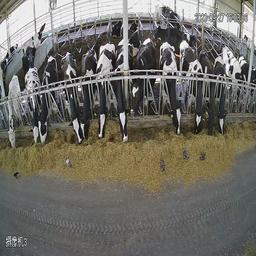cow: (159, 40, 182, 135), (129, 39, 156, 119), (180, 37, 202, 135), (59, 54, 81, 145), (81, 48, 98, 140), (201, 48, 218, 135), (41, 57, 57, 143), (116, 39, 129, 144), (23, 69, 40, 144), (222, 39, 248, 86), (5, 75, 21, 151), (98, 43, 109, 141), (20, 21, 47, 51), (153, 21, 184, 45), (217, 58, 227, 129), (128, 18, 141, 55), (22, 44, 37, 67), (111, 17, 123, 40)
